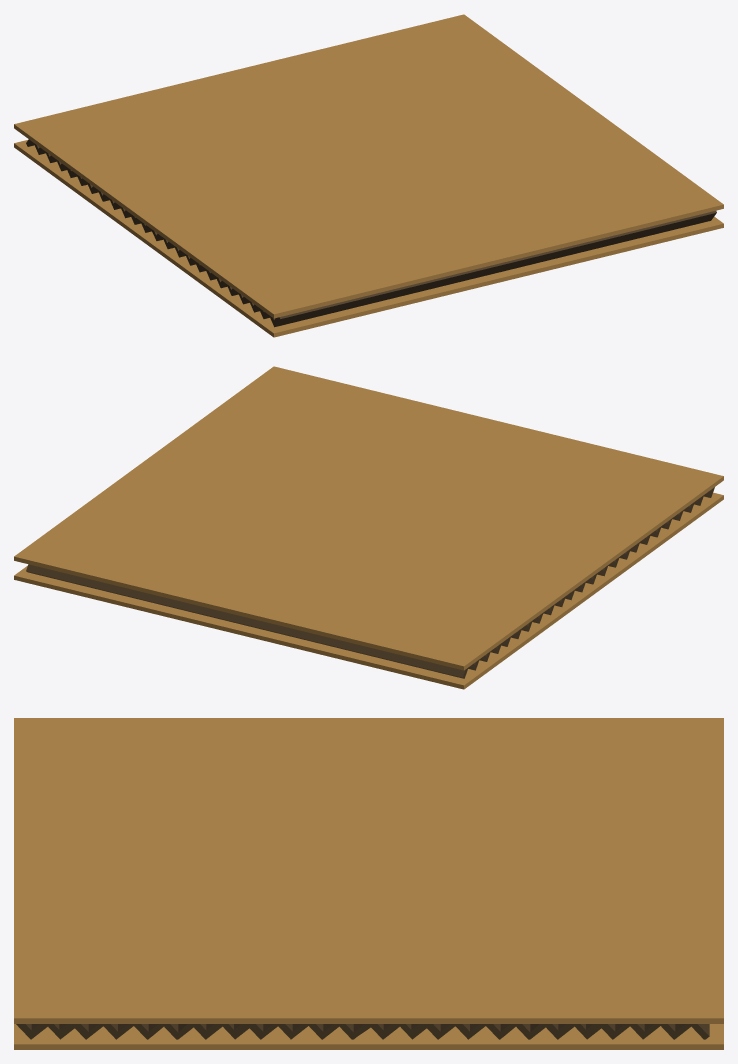
File: CardboardPlain.fbx
The picture shows the model from 3 angles, top to bottom: view 1: azimuth 30°, elevation 25°; view 2: azimuth 150°, elevation 25°; view 3: azimuth 270°, elevation 25°; orthographic projection. The views are drawn at different scales.
Parts seen in each view (by area): view 1: Top, Bottom, Middle; view 2: Top, Bottom, Middle; view 3: Top, Bottom, Middle.
Boxes of the visible parts, x1,y1,x2,y2 form: Top: (14,14,723,318); Bottom: (14,140,723,337); Middle: (26,139,716,327); Top: (14,366,723,670); Bottom: (14,492,723,689); Middle: (26,487,714,678); Top: (14,718,723,1023); Bottom: (14,1024,723,1049); Middle: (16,1024,709,1039).
Bounding box in the file's own units: 15.18 × 0.7479 × 15.18.
